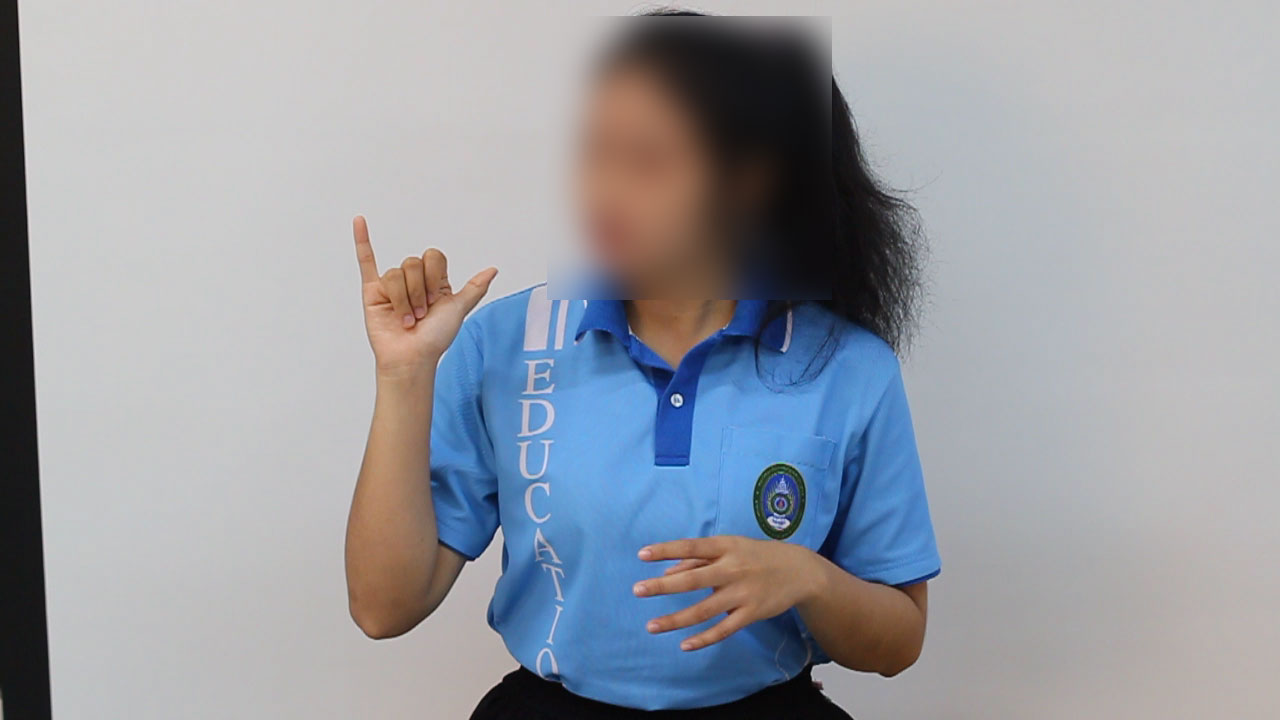yor: (337, 207, 511, 385)
